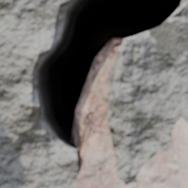brick: (76, 119, 187, 187)
crack: (0, 0, 185, 187)
